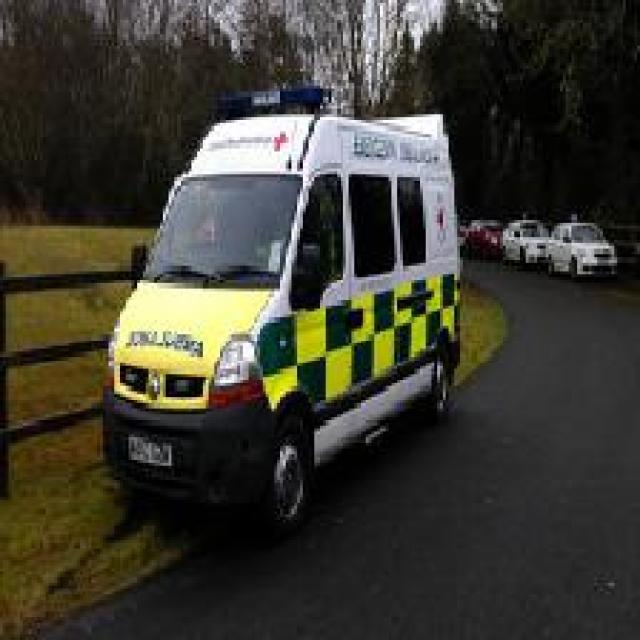Ambulance: (97, 89, 463, 534)
